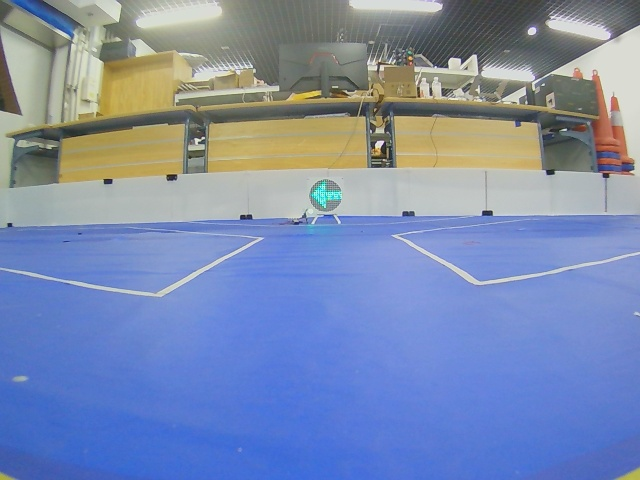left_green: (309, 179, 342, 212)
